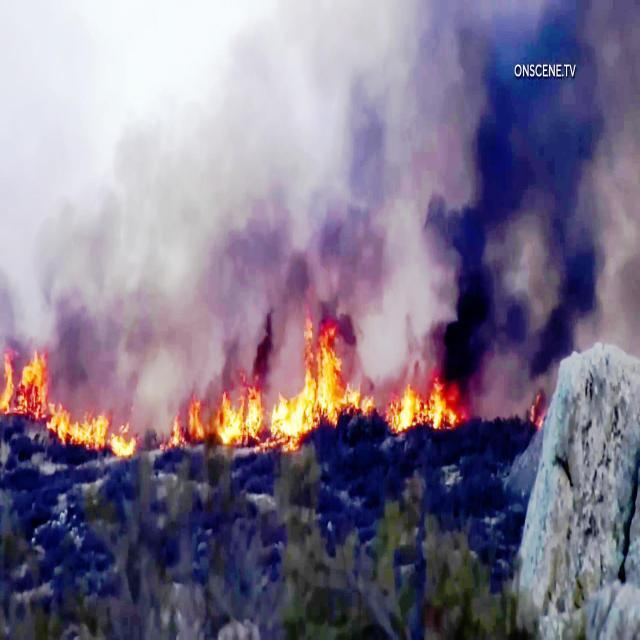Fire: (272, 316, 365, 441), (168, 377, 268, 464), (382, 346, 462, 434), (0, 338, 63, 439), (63, 411, 142, 475), (528, 379, 554, 432)
Smoke: (0, 2, 640, 325)
